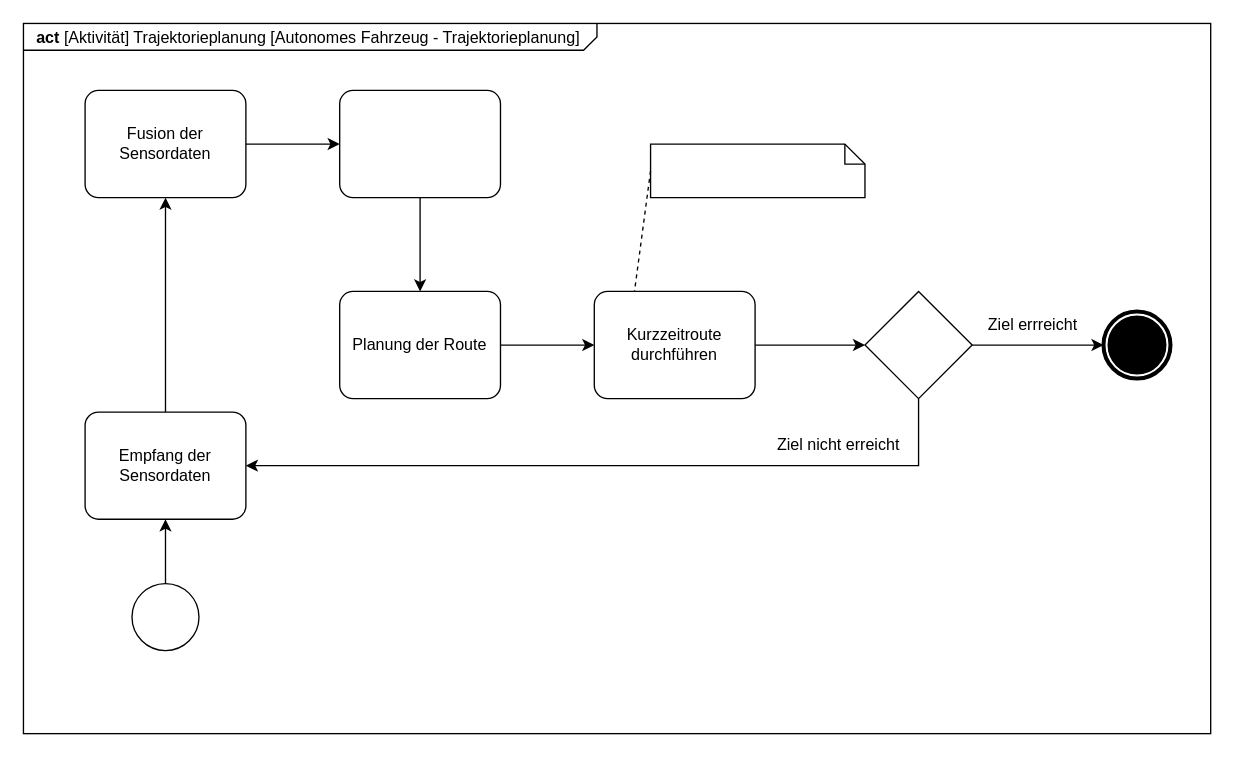
Image size: 1234x757. Some labels were removed from this diagram. Each missing label, with the centre of its shape:
Geplante Route möglich: the point at 757,170
Wahrnehmung und Analyse der Umgebung: the point at 419,143
